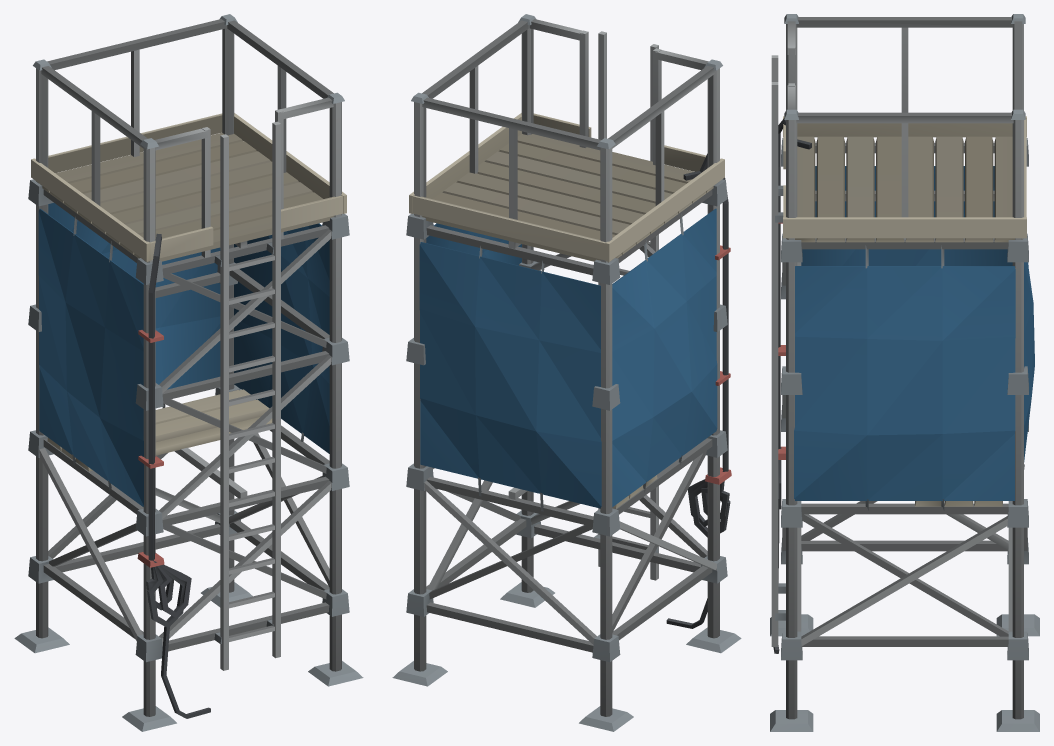
File: camtower.glb
3 renders of one model, left to right at view 1: azimuth 30°, elevation 25°; view 2: azimuth 150°, elevation 25°; view 3: azimuth 270°, elevation 25°, orthographic. The views are drawn at different scales.
Visible parts, largest first — view 1: camtower; view 2: camtower; view 3: camtower.
Part boxes in pixels (left/top/right/bottom): camtower: left=14, top=14, right=363, bottom=731; camtower: left=392, top=14, right=741, bottom=731; camtower: left=770, top=14, right=1039, bottom=731.
Size of the model in its own units: 2.8 by 7 by 2.8.
